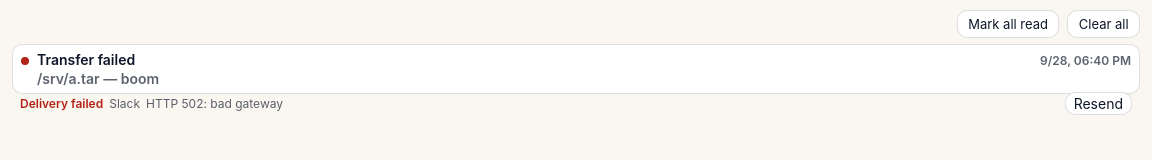
投递失败面（Phase 5 T1，BL-517）：失败块 + 手动重发 › 点击重发 → 调 resendNotification(item, failure)；翻正清账后失败块消失
The image size is (1152, 160).
Step 1. Click the button with test id "notify-resend-21" → (1098, 104), box [1065,92,1132,115]
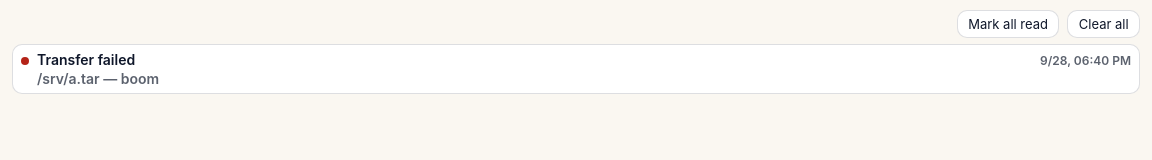
Expected: the element with test id "notify-dlv-21" is gone
